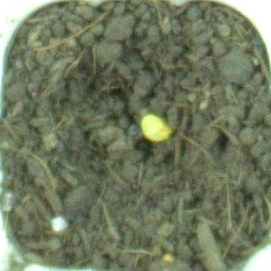chilli seed: (140, 111, 175, 145)
